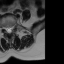CCS_normal: (8, 25, 10, 35)
LFS_normal: (12, 22, 14, 31)
LLS_normal: (10, 24, 12, 34)
RFS_normal: (3, 23, 6, 31)
RLS_normal: (6, 24, 8, 34)
